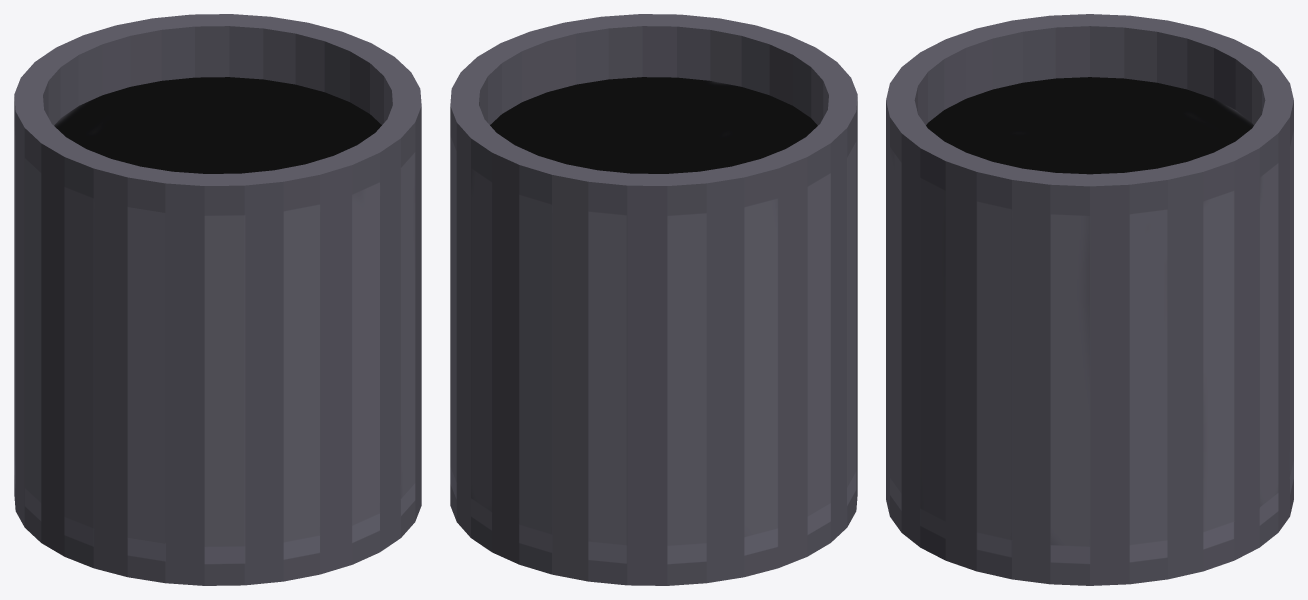
The model's file is GarbageCan.fbx.
3 renders of one model, left to right at view 1: azimuth 30°, elevation 25°; view 2: azimuth 150°, elevation 25°; view 3: azimuth 270°, elevation 25°, orthographic.
Visible parts, largest first — view 1: GarbageCan; view 2: GarbageCan; view 3: GarbageCan.
Boxes of the visible parts, bbox=[...] form: GarbageCan: bbox=[14, 14, 421, 585]; GarbageCan: bbox=[450, 14, 857, 585]; GarbageCan: bbox=[886, 14, 1293, 585].
Bounding box in the file's own units: 1.39 × 1.39 × 1.5.
